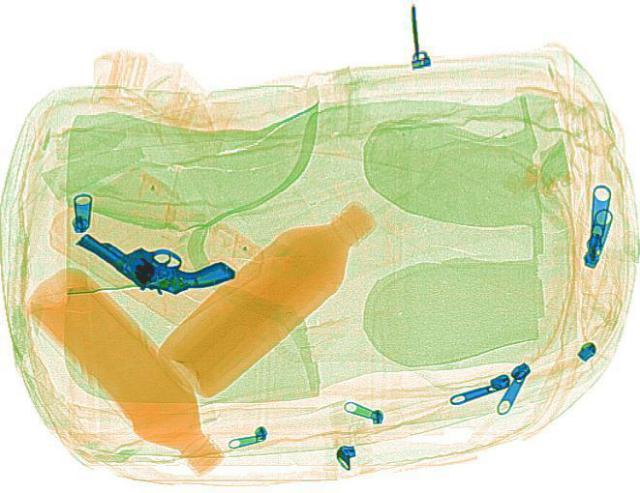Gun: (61, 225, 238, 308)
